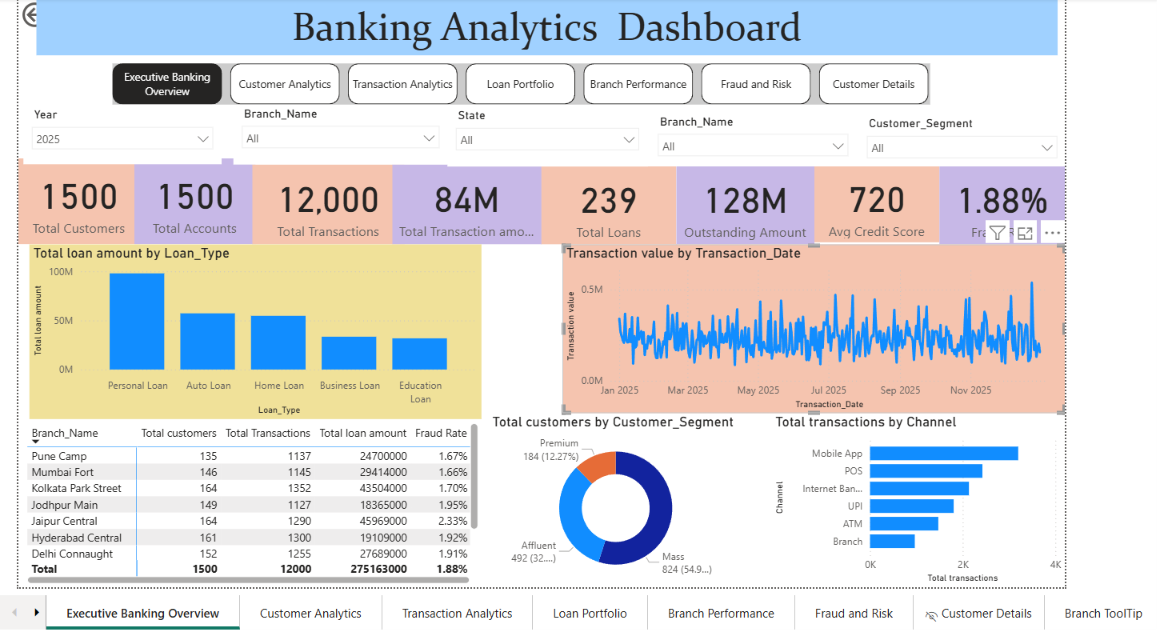

The dashboard page shown, as its layout file describes it:
{"tool":"powerbi","page":{"name":"Executive Banking Overview","canvas":[1280,720],"ordinal":0},"visuals":[{"type":"card","fields":{"Values":["Count(Customers.Customer_ID)"]},"box":[0,195.7,148,105.2],"z":0},{"type":"card","fields":{"Values":["CountNonNull(Accounts.Account_ID)"]},"box":[141.8,195.7,148,105.2],"z":1000},{"type":"card","fields":{"Values":["CountNonNull(Transactions.Transaction_ID)"]},"box":[286.1,203,185.9,97.8],"z":2000},{"type":"card","fields":{"Values":["Sum(Transactions.Amount_INR)"]},"box":[457.3,203,182.2,97.8],"z":3000},{"type":"card","fields":{"Values":["CountNonNull(Loans.Loan_ID)"]},"box":[639.5,205.4,165.1,95.4],"z":4000},{"type":"card","fields":{"Values":["Total Measures.Outstanding Amount"]},"box":[804.6,205.4,168.8,95.4],"z":5000},{"type":"card","fields":{"Values":["Avg(Customers.Credit_Score)"]},"box":[973.4,205.4,152.9,92.9],"z":6000},{"type":"card","fields":{"Values":["Total Measures.Fraud Rate"]},"box":[1126.2,205.4,154.1,95.4],"z":7000},{"type":"actionButton","box":[0,0,100,40],"z":8000},{"type":"lineChart","fields":{"Category":["Transactions.Transaction_Date"],"Y":["Sum(Transactions.Amount_INR)"]},"box":[665.2,300.8,615.1,206.7],"z":9000},{"type":"donutChart","fields":{"Y":["CountNonNull(Customers.Customer_ID)"],"Category":["Customers.Customer_Segment"]},"box":[574.7,507.5,311.8,212.8],"z":10000},{"type":"clusteredColumnChart","fields":{"Y":["Sum(Loans.Loan_Amount_INR)"],"Category":["Loans.Loan_Type"]},"box":[13.5,300.8,552.7,214],"z":11000},{"type":"clusteredBarChart","fields":{"Category":["Transactions.Channel"],"Y":["CountNonNull(Transactions.Transaction_ID)"]},"box":[920.8,507.5,359.5,212.8],"z":12000},{"type":"pivotTable","fields":{"Rows":["Branches.Branch_Name"],"Values":["Count(Customers.Customer_ID)","Count(Transactions.Transaction_ID)","Sum(Loans.Loan_Amount_INR)","Transactions.Fraud Rate"]},"box":[5.6,514.8,560.7,205.9],"z":13000},{"type":"textbox","box":[22,0,1248.5,69.7],"z":14000},{"type":"slicer","fields":{"Values":["Date.Year"]},"box":[6.1,128.4,242.1,74.6],"z":16000},{"type":"slicer","fields":{"Values":["Branches.Branch_Name"]},"box":[262.9,127.2,261.7,75.8],"z":17000},{"type":"slicer","fields":{"Values":["Customers.State"]},"box":[524.6,129.6,244.6,75.8],"z":18000},{"type":"slicer","fields":{"Values":["Branches.Branch_Name"]},"box":[771.6,137,253.1,66],"z":19000},{"type":"slicer","fields":{"Values":["Customers.Customer_Segment"]},"box":[1027.2,139.4,253.1,56.3],"z":20000},{"type":"pageNavigator","box":[114.9,79.5,1000.3,50.1],"z":21000}]}

Visuals, with their boxes on the page's 1280x720 design canvas (x1, y1, x2, y2). These are canvas units, not pixel positions in the 1157x630 screenshot, which may show the page scaled, cropped or inside an application window:
card - Count(Customers.Customer_ID): (0, 196, 148, 301)
card - CountNonNull(Accounts.Account_ID): (142, 196, 290, 301)
card - CountNonNull(Transactions.Transaction_ID): (286, 203, 472, 301)
card - Sum(Transactions.Amount_INR): (457, 203, 640, 301)
card - CountNonNull(Loans.Loan_ID): (640, 205, 805, 301)
card - Total Measures.Outstanding Amount: (805, 205, 973, 301)
card - Avg(Customers.Credit_Score): (973, 205, 1126, 298)
card - Total Measures.Fraud Rate: (1126, 205, 1280, 301)
actionButton: (0, 0, 100, 40)
lineChart - Transactions.Transaction_Date x Sum(Transactions.Amount_INR): (665, 301, 1280, 508)
donutChart - CountNonNull(Customers.Customer_ID) x Customers.Customer_Segment: (575, 508, 886, 720)
clusteredColumnChart - Sum(Loans.Loan_Amount_INR) x Loans.Loan_Type: (14, 301, 566, 515)
clusteredBarChart - Transactions.Channel x CountNonNull(Transactions.Transaction_ID): (921, 508, 1280, 720)
pivotTable - Branches.Branch_Name x Count(Customers.Customer_ID): (6, 515, 566, 721)
textbox: (22, 0, 1270, 70)
slicer - Date.Year: (6, 128, 248, 203)
slicer - Branches.Branch_Name: (263, 127, 525, 203)
slicer - Customers.State: (525, 130, 769, 205)
slicer - Branches.Branch_Name: (772, 137, 1025, 203)
slicer - Customers.Customer_Segment: (1027, 139, 1280, 196)
pageNavigator: (115, 80, 1115, 130)
